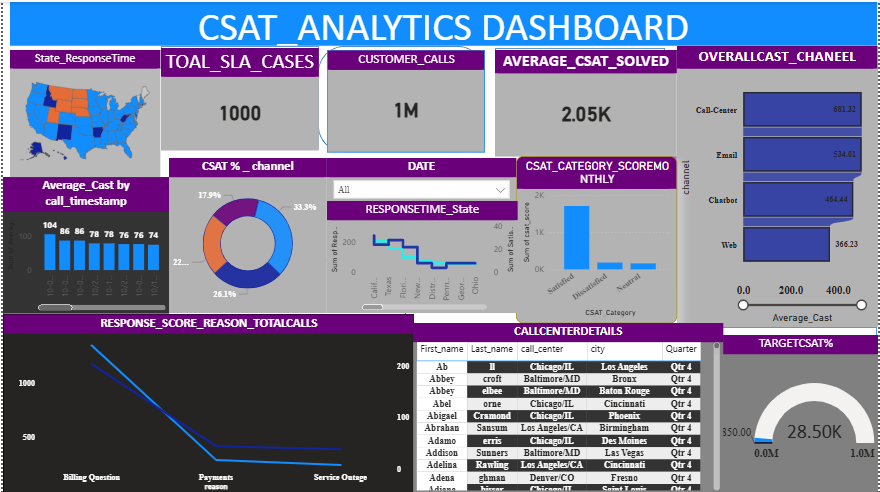

The page's visual inventory and layout, read from the dashboard file:
{"tool":"powerbi","page":{"name":"CSAT_ANALYTICAS","canvas":[1280,720],"ordinal":2},"visuals":[{"type":"shape","box":[1040.5,475.6,238.5,244.4],"z":0},{"type":"shape","box":[0,377.6,589.8,342.4],"z":1000},{"type":"shape","box":[782.9,225.4,203.4,193.2],"z":2000},{"type":"shape","box":[986.8,69.7,293.2,400.4],"z":3000},{"type":"shape","box":[720,67.3,248.8,155.1],"z":4000},{"type":"shape","box":[461.2,64.4,243.1,155.5],"z":5000},{"type":"shape","box":[230.6,64.4,230.6,150.2],"z":6000},{"type":"shape","title":"CSAT_ANALYTICS DASHBOARD","box":[10.7,0,1269.3,64.4],"z":7000},{"type":"card","title":"TOAL_SLA_CASES","fields":{"Values":["Sum(CSAT_DATA.SLA_Count)"]},"box":[230.6,67.9,230.6,150.2],"z":8000},{"type":"card","title":"CUSTOMER_CALLS","fields":{"Values":["Sum(CSAT_DATA.Total_Calls)"]},"box":[473.7,69.7,230.6,150.2],"z":9000},{"type":"card","title":"AVERAGE_CSAT_SOLVED","fields":{"Values":["Sum(CSAT_DATA.Average_Cast)"]},"box":[720.4,69.7,266.4,155.5],"z":10000},{"type":"barChart","title":"OVERALLCAST_CHANEEL","fields":{"Category":["CSAT_DATA.channel"],"Y":["Sum(CSAT_DATA.Average_Cast)"]},"box":[986.8,64.4,293.2,411.2],"z":11000},{"type":"clusteredColumnChart","title":"CSAT_CATEGORY_Response_MONTHLY","fields":{"Category":["CSAT_DATA.CSAT_Category"],"Y":["Sum(CSAT_DATA.csat_score)"]},"box":[750.8,225.3,236,244.9],"z":12000},{"type":"lineChart","title":"RESPONSE_SCORE_REASON_TOTALCALLS","fields":{"Category":["CSAT_DATA.reason"],"Y":["Sum(CSAT_DATA.Response_Score)"],"Y2":["Sum(CSAT_DATA.Satisfied Flag)"]},"box":[0,455.9,600.7,264.6],"z":13000},{"type":"slicer","title":"DATE","fields":{"Values":["CSAT_DATA.Date"]},"box":[474.1,228.3,276.6,62.9],"z":14000},{"type":"gauge","title":"TARGETCSAT%","fields":{"Y":["Sum(CSAT_DATA.CSAT %)"],"TargetValue":["Sum(CSAT_DATA.TARGET_CSAT)"]},"box":[1040.4,488,239.6,232.4],"z":15000},{"type":"tableEx","title":"CALLCENTERDETAILS","fields":{"Values":["CSAT_DATA.First_name","CSAT_DATA.Last_name","CSAT_DATA.call_center","CSAT_DATA.city","CSAT_DATA.Date.Variation.Date Hierarchy.Quarter"]},"box":[600.7,470.2,454.1,250.3],"z":16000},{"type":"clusteredColumnChart","title":" Average_Cast by call_timestamp","fields":{"Category":["CSAT_DATA.Call_Day","CSAT_DATA.call_timestamp"],"Y":["Sum(CSAT_DATA.Average_Cast)"]},"box":[0,255.6,243.1,200.2],"z":17000},{"type":"donutChart","title":"CSAT % _ channel","fields":{"Y":["Sum(CSAT_DATA.CSAT %)"],"Category":["CSAT_DATA.channel"]},"box":[243.1,228.8,230.6,227],"z":18000},{"type":"lineChart","title":"RESPONSETIME_State","fields":{"Y":["Sum(CSAT_DATA.Response_Score)"],"Category":["CSAT_DATA.state"],"Y2":["Sum(CSAT_DATA.Satisfied Flag)"]},"box":[473.7,291.4,278.9,164.5],"z":19000},{"type":"shapeMap","title":"State_ResponseTime","fields":{"Category":["CSAT_DATA.state"],"Value":["Sum(CSAT_DATA.TARGET_CSAT)"],"Series":["CSAT_DATA.response_time"]},"box":[10.7,69.7,219.9,185.9],"z":20000}]}

Visuals, with their boxes in screenshot pixels (x1, y1, x2, y2), scaled from the page's 1280x720 canvas onto the 880x492 screenshot:
shape: [715,325,879,491]
shape: [0,258,405,491]
shape: [538,154,678,286]
shape: [678,48,879,321]
shape: [495,46,666,152]
shape: [317,44,484,150]
shape: [159,44,317,147]
"CSAT_ANALYTICS DASHBOARD" shape: [7,0,879,44]
"TOAL_SLA_CASES" card: [159,46,317,149]
"CUSTOMER_CALLS" card: [326,48,484,150]
"AVERAGE_CSAT_SOLVED" card: [495,48,678,154]
"OVERALLCAST_CHANEEL" barChart: [678,44,879,325]
"CSAT_CATEGORY_Response_MONTHLY" clusteredColumnChart: [516,154,678,321]
"RESPONSE_SCORE_REASON_TOTALCALLS" lineChart: [0,312,413,491]
"DATE" slicer: [326,156,516,199]
"TARGETCSAT%" gauge: [715,333,879,491]
"CALLCENTERDETAILS" tableEx: [413,321,725,491]
" Average_Cast by call_timestamp" clusteredColumnChart: [0,175,167,311]
"CSAT % _ channel" donutChart: [167,156,326,311]
"RESPONSETIME_State" lineChart: [326,199,517,312]
"State_ResponseTime" shapeMap: [7,48,159,175]
